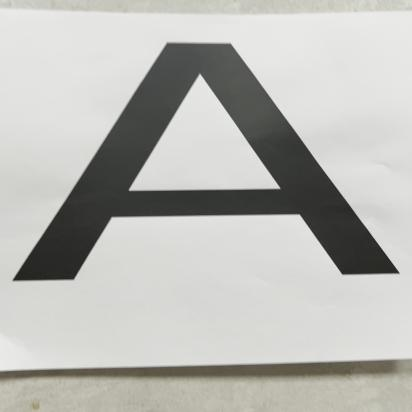seat: (0, 18, 412, 302)
